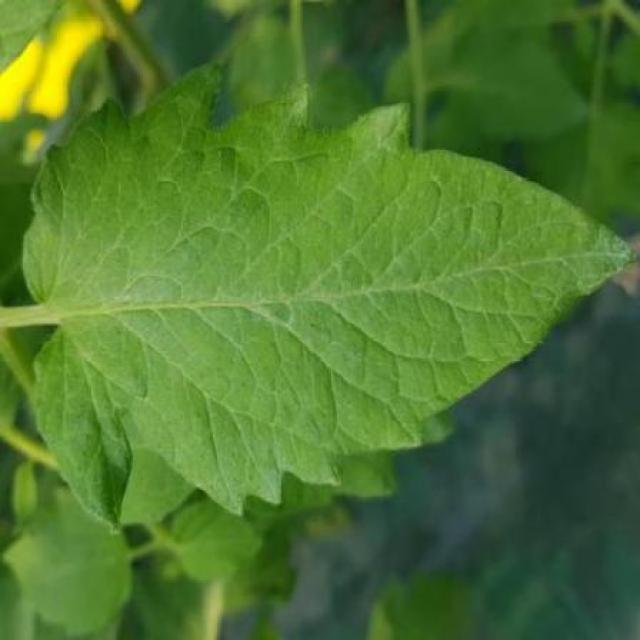Healthy: (24, 64, 635, 534)
